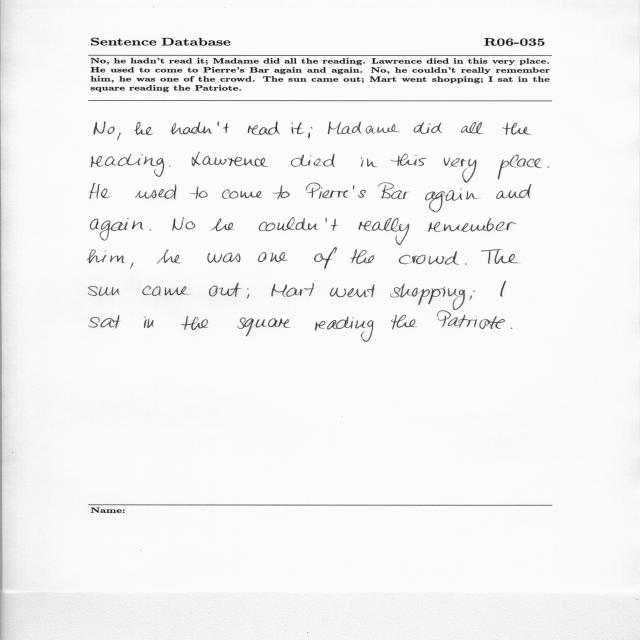word: (390, 284, 465, 310), (91, 154, 164, 177), (315, 317, 373, 342), (359, 218, 409, 245), (425, 189, 478, 213), (428, 218, 517, 232), (437, 311, 505, 329), (91, 218, 144, 241), (192, 152, 268, 167), (259, 217, 339, 231), (498, 155, 542, 180), (237, 318, 290, 337), (306, 183, 366, 199), (328, 122, 400, 134), (399, 251, 459, 265), (444, 158, 476, 183), (170, 122, 229, 135), (135, 184, 176, 200), (272, 283, 315, 297), (330, 285, 375, 298), (291, 154, 335, 167), (481, 249, 519, 264), (496, 184, 532, 199), (87, 250, 125, 264), (378, 183, 410, 199), (314, 247, 337, 269), (209, 282, 241, 297), (142, 286, 189, 296), (391, 154, 426, 166), (248, 122, 280, 135), (391, 315, 418, 330), (89, 315, 120, 328), (222, 189, 262, 199), (181, 316, 208, 330), (156, 249, 181, 264), (350, 249, 374, 264), (414, 122, 442, 134), (502, 123, 530, 135), (208, 253, 241, 263), (90, 183, 110, 199), (88, 286, 120, 296), (210, 219, 234, 232), (258, 252, 287, 262), (94, 122, 115, 135), (461, 122, 483, 134), (135, 122, 154, 135), (272, 186, 290, 199), (190, 187, 208, 199), (361, 157, 377, 167), (292, 122, 305, 134), (172, 218, 184, 231), (144, 316, 154, 328), (501, 281, 507, 296), (186, 221, 195, 229), (469, 291, 475, 300), (308, 127, 312, 138), (117, 133, 121, 141), (247, 288, 249, 299), (130, 263, 133, 269), (548, 166, 550, 168), (150, 229, 152, 231), (169, 165, 170, 167), (465, 263, 466, 265), (511, 328, 513, 329)
